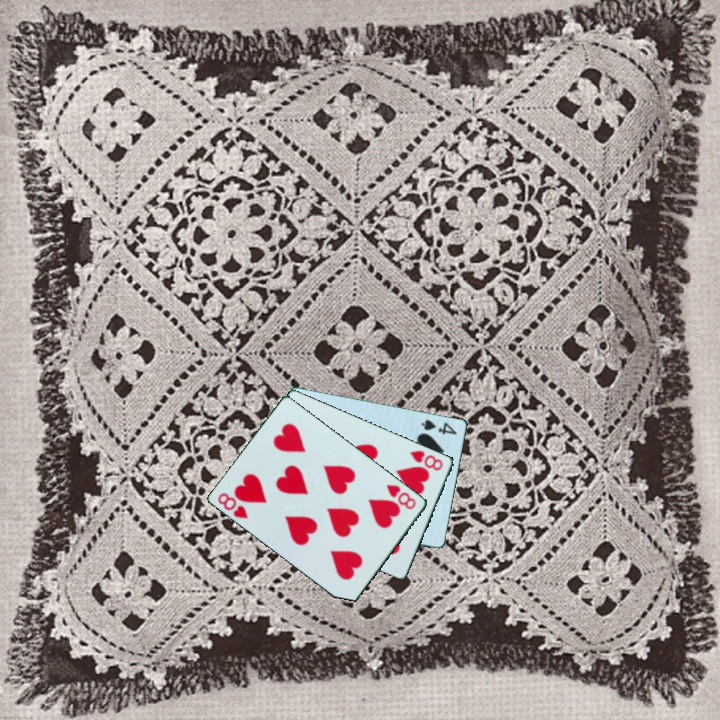4s: (418, 416, 460, 437)
8h: (214, 489, 251, 522), (383, 481, 419, 512), (406, 447, 446, 473)
